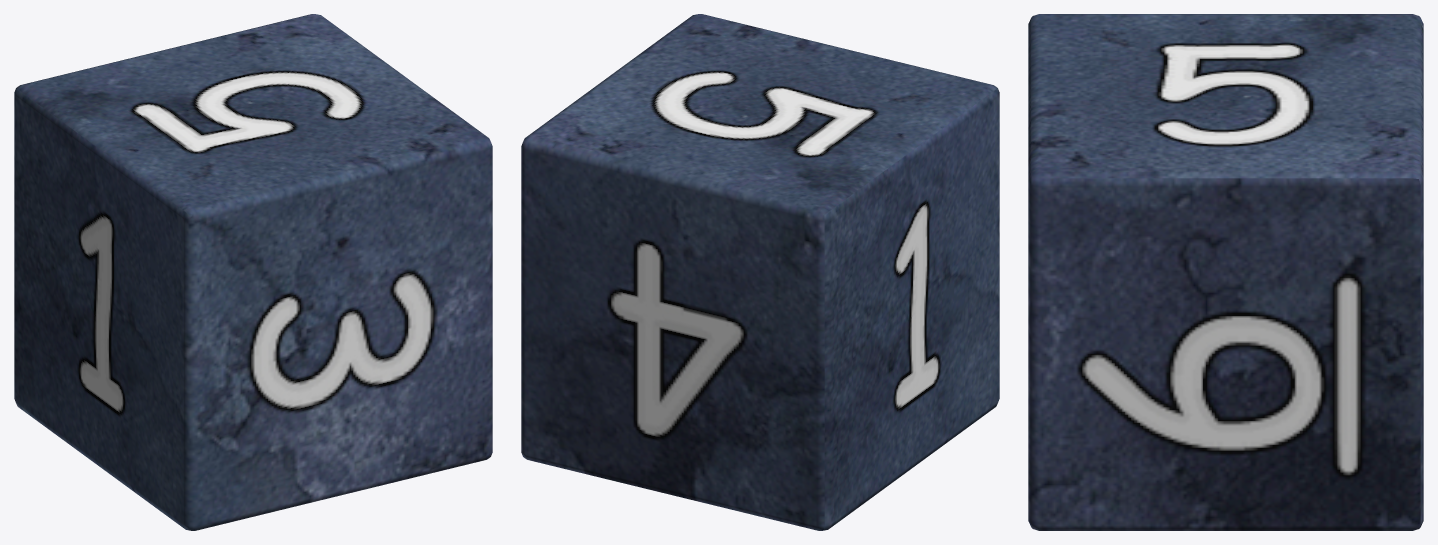
The picture shows the model from 3 angles, left to right: view 1: azimuth 30°, elevation 25°; view 2: azimuth 150°, elevation 25°; view 3: azimuth 270°, elevation 25°; orthographic projection. The views are drawn at different scales.
Visible parts, largest first — view 1: d6_smooth; view 2: d6_smooth; view 3: d6_smooth.
Boxes of the visible parts, bbox=[...] form: d6_smooth: bbox=[14, 14, 492, 530]; d6_smooth: bbox=[521, 14, 999, 530]; d6_smooth: bbox=[1028, 14, 1423, 530].
Size of the model in its own units: 4.67 by 4.67 by 4.67.
Materials: 1 (1 with a texture image).
